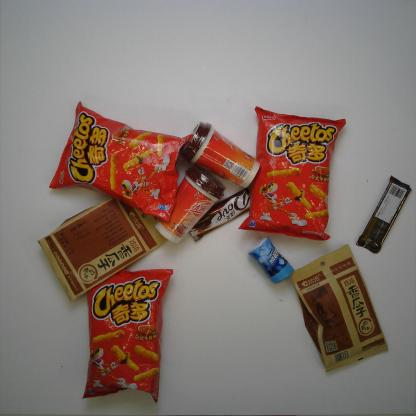Chocolate: (354, 176, 414, 255), (189, 189, 254, 242)
Dried Food: (36, 195, 171, 305), (288, 244, 390, 374)
Gum: (247, 235, 295, 285)
Instant Drink: (177, 119, 262, 192), (152, 164, 226, 244)
Puffed Food: (45, 99, 195, 224), (237, 105, 347, 242), (79, 267, 174, 404)
